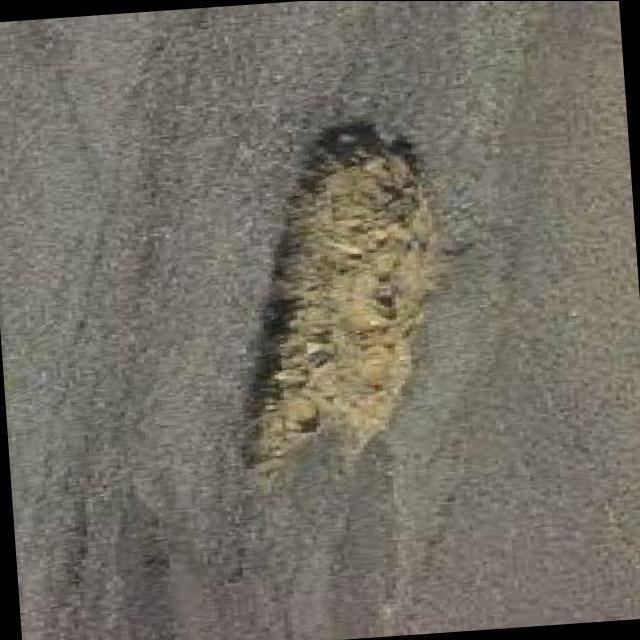pothole: (233, 114, 450, 496)
